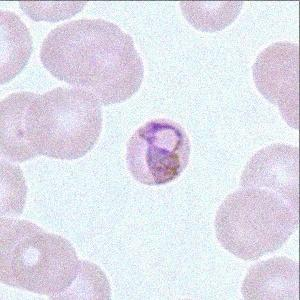Infected: (122, 116, 194, 184)
Uninfected: (40, 18, 134, 86), (27, 86, 103, 161), (216, 189, 295, 259), (238, 142, 300, 222), (10, 229, 80, 297), (0, 90, 52, 161), (0, 213, 48, 288)
